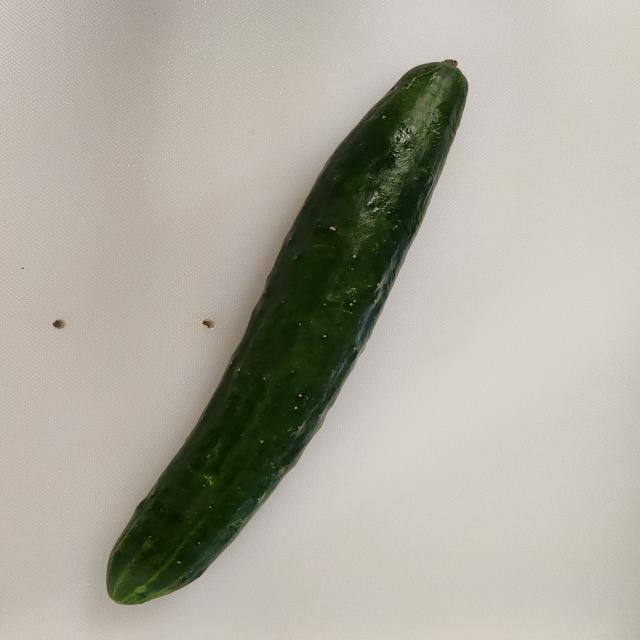cucumber: (105, 59, 468, 606)
